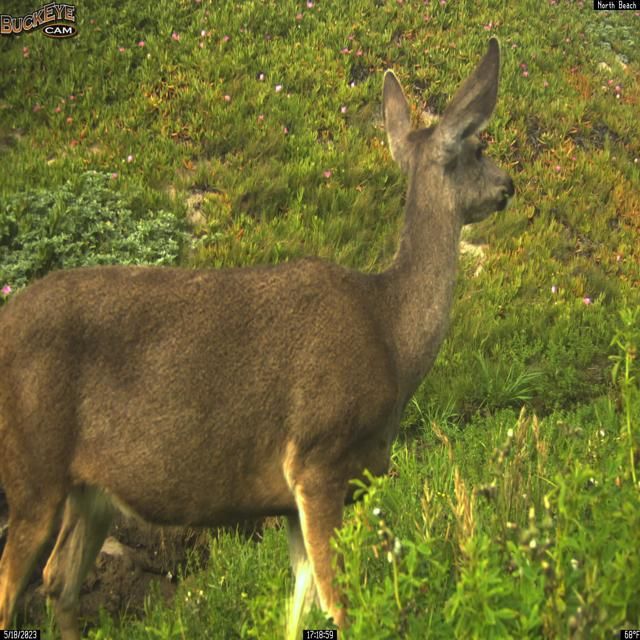deer: (0, 35, 515, 639)
